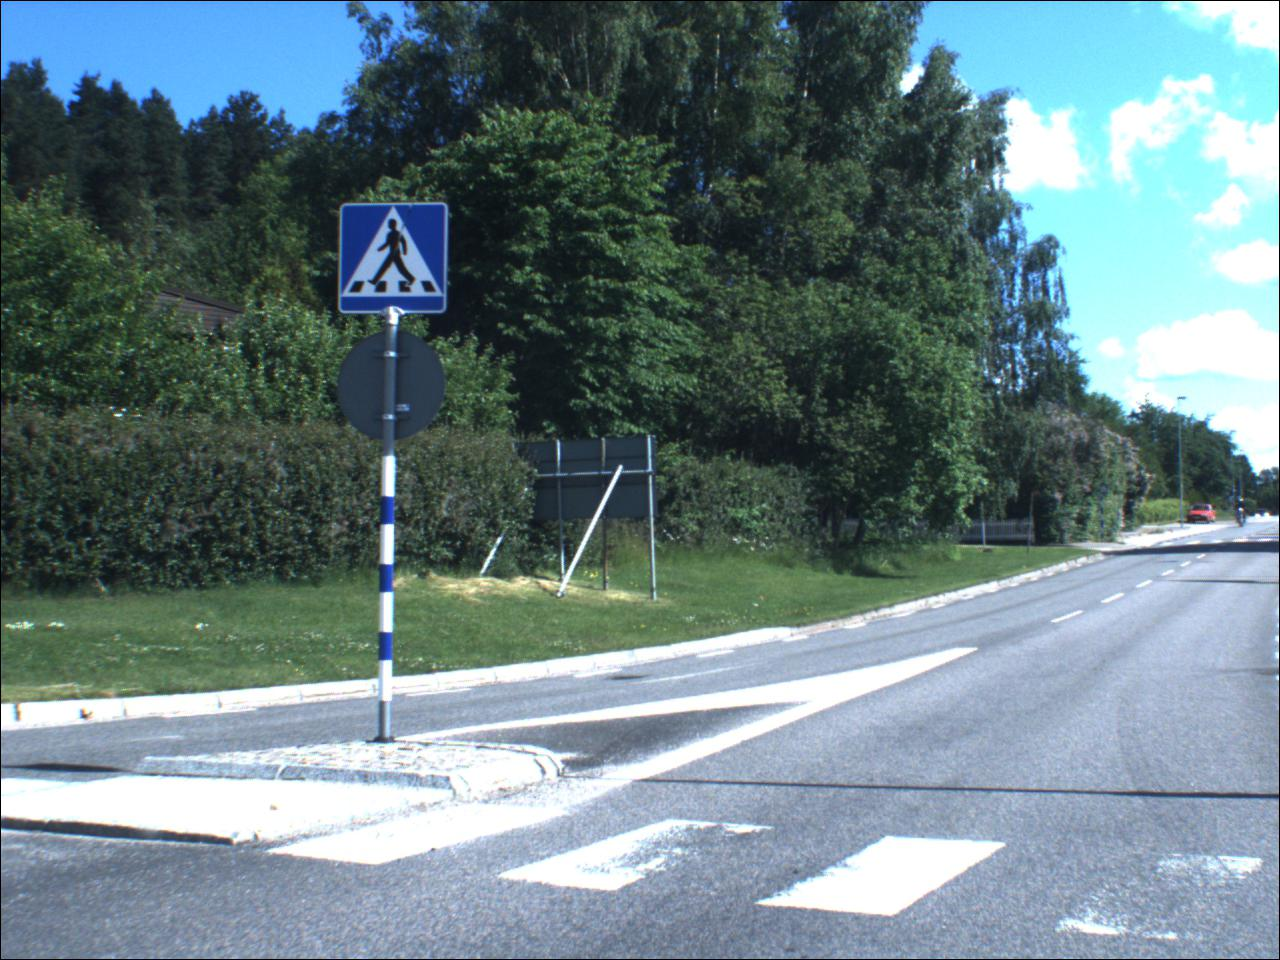PEDESTRIAN_CROSSING: (341, 206, 447, 322)
